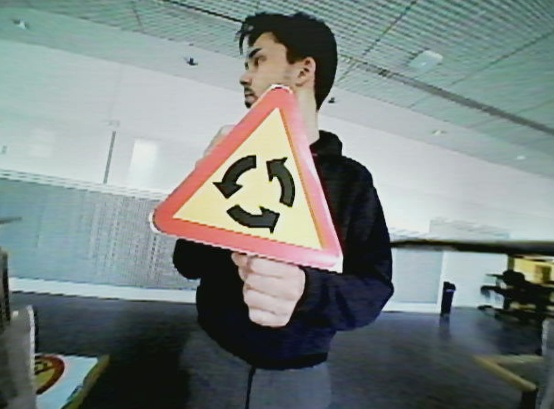roundabout_warning: (146, 80, 367, 279)
